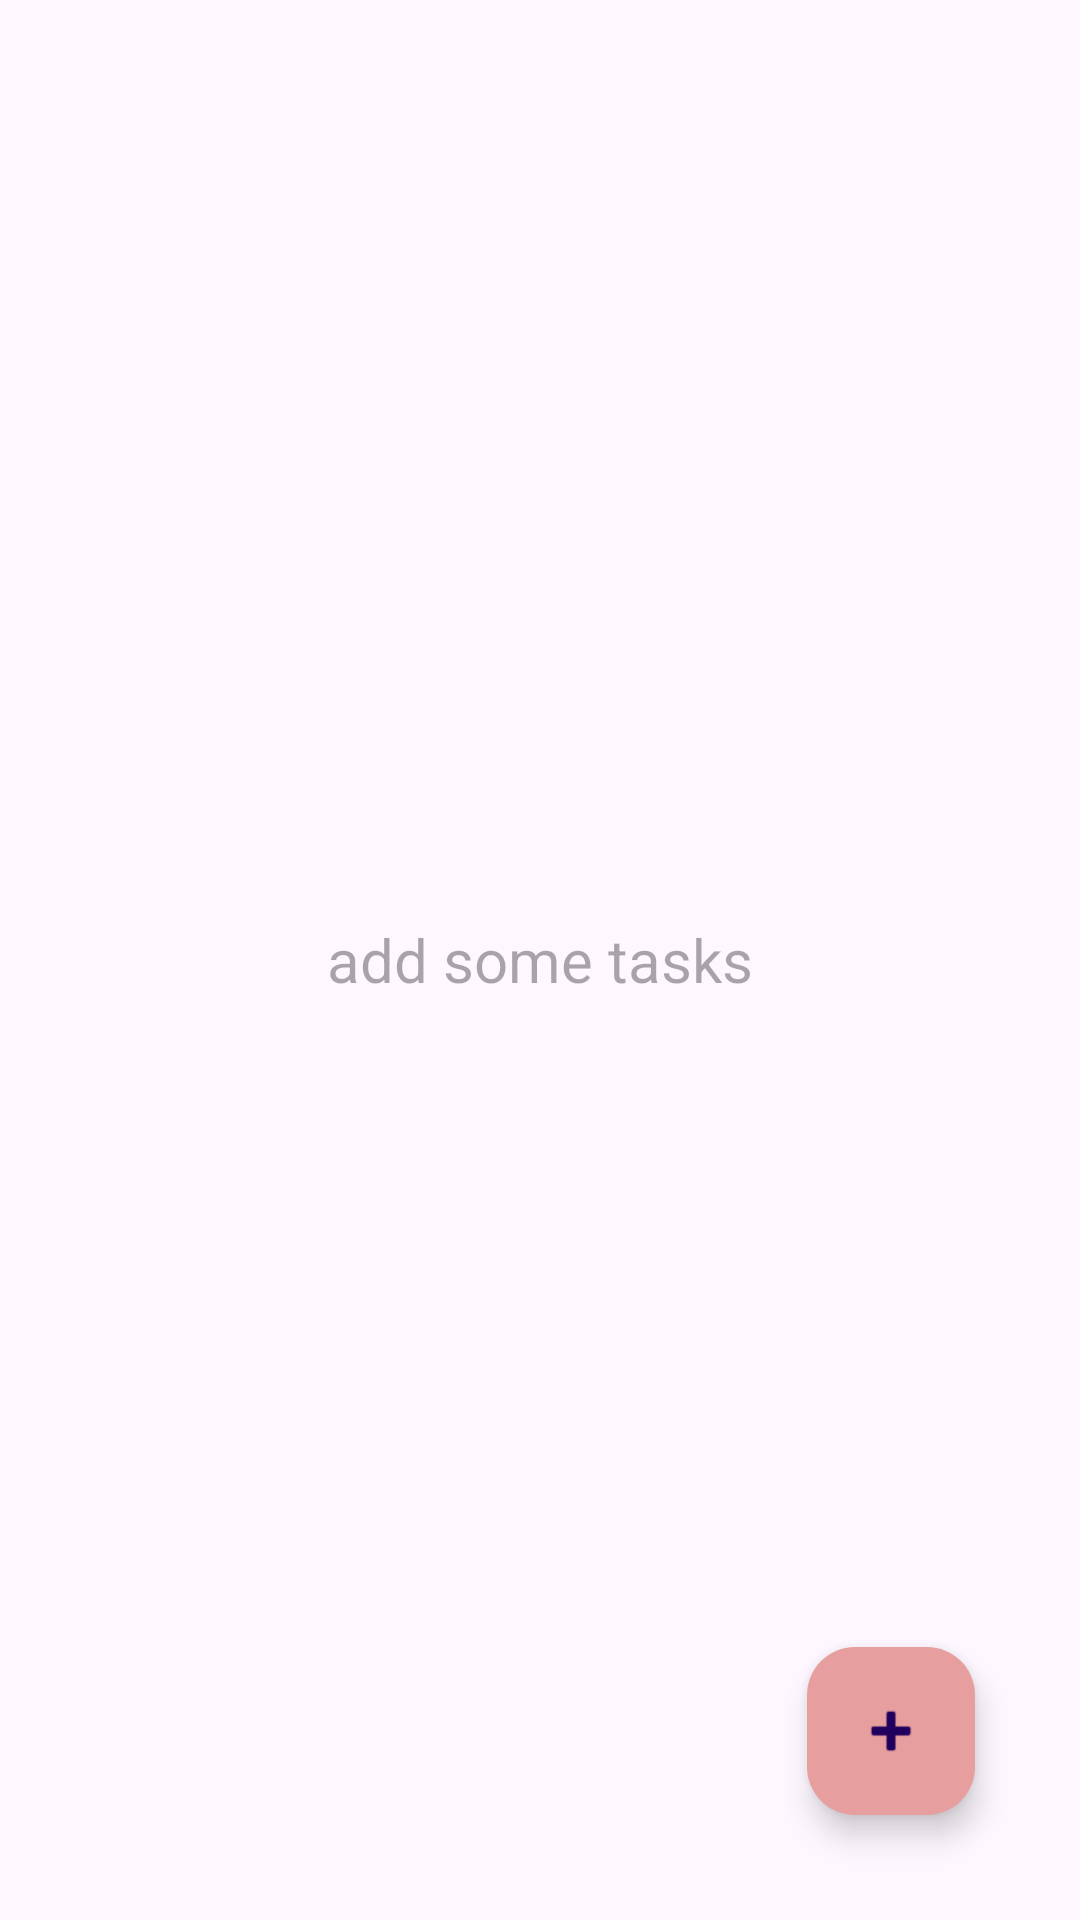

Icons on this 1080 × 1920 Android screen, each with its box as detection(x1, y1, x2, y2):
add: detection(807, 1647, 975, 1815)
